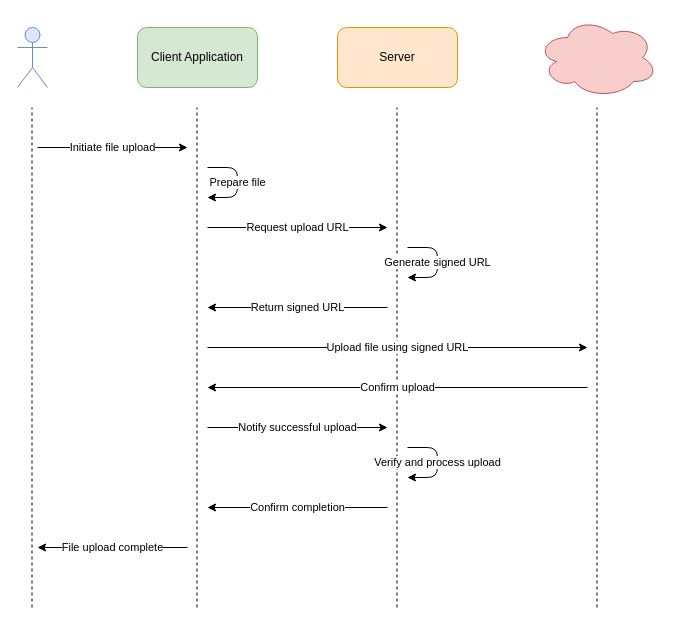
The diagram is 675 pixels wide and 626 high, and some of its shapes have lost their labels. Each missing label, with the centre of its shape:
Cloud Storage: (597,57)
User: (32,57)
